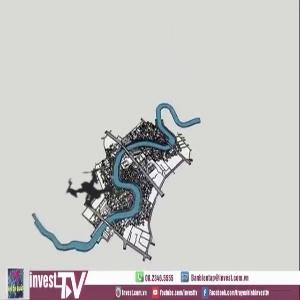drone: (26, 122, 157, 253)
